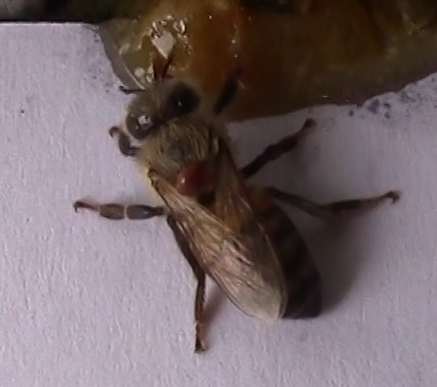Varroa destructor: (172, 158, 214, 198)
